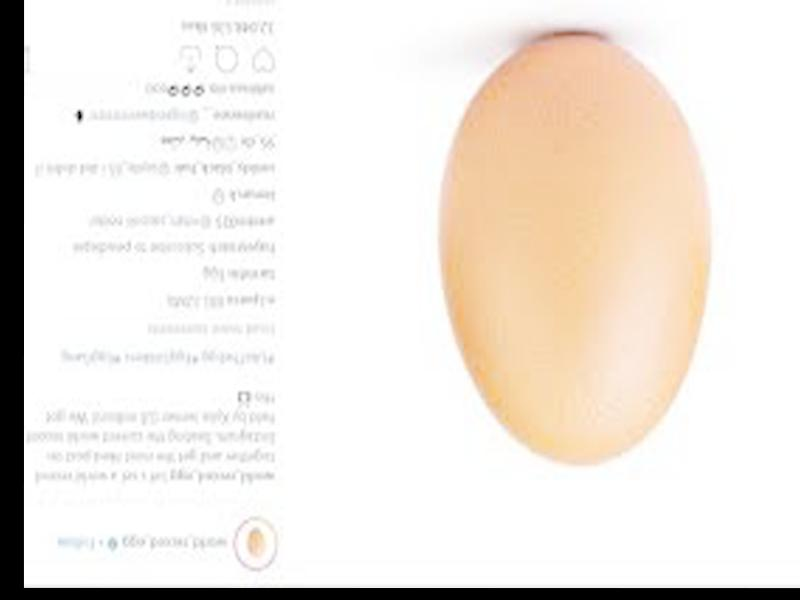Eggs: (440, 38, 713, 465)
